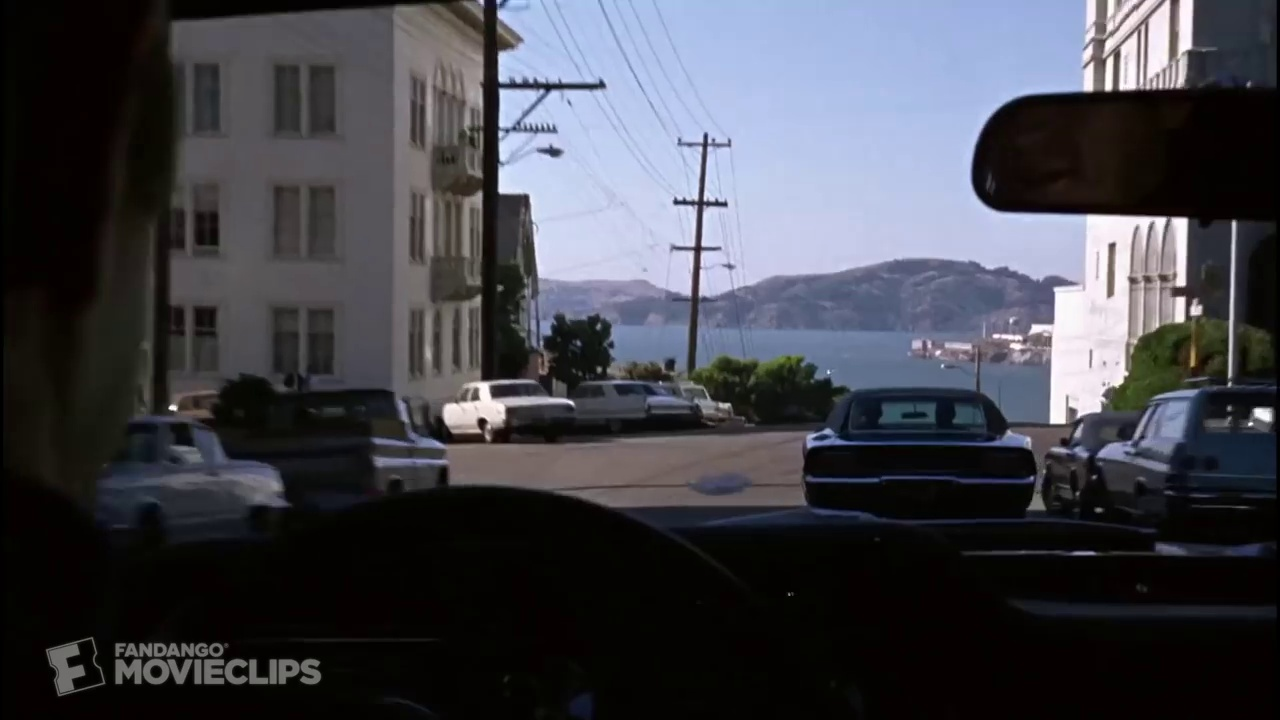car: (180, 467, 1280, 717), (778, 379, 1057, 528), (50, 385, 297, 552), (1077, 367, 1280, 525), (1026, 394, 1157, 523), (432, 358, 581, 456), (554, 370, 717, 443), (632, 367, 760, 435)
person: (1, 1, 197, 566), (993, 95, 1208, 219)
truck: (217, 368, 472, 519)
